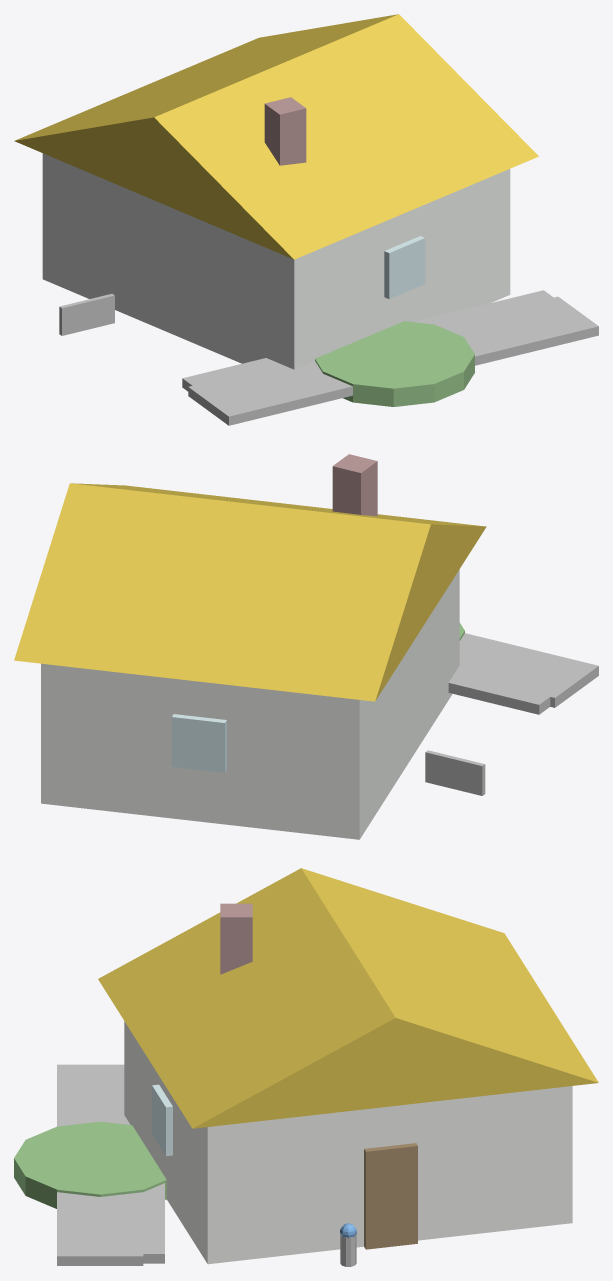
The model's file is house_nike.glb.
3 views of the same model, one above another, from view 1: azimuth 30°, elevation 25°; view 2: azimuth 150°, elevation 25°; view 3: azimuth 270°, elevation 25° (orthographic). The views are drawn at different scales.
Visible parts, largest first — view 1: nike_atap.001, nike_dinding.001, nike_teras_bawah.001, nike_taman.001, nike_teras.001, nike_cerobong.001, nike_jendela_1.001, nike_trofi.001; view 2: nike_atap.001, nike_dinding.001, nike_teras_bawah.001, nike_teras.001, nike_jendela_-1.001, nike_cerobong.001, nike_trofi.001; view 3: nike_atap.001, nike_dinding.001, nike_taman.001, nike_teras_bawah.001, nike_teras.001, nike_pintu.001, nike_cerobong.001, nike_jendela_1.001.
Part boxes in pixels (left/top/right/bottom): nike_atap.001: left=14, top=14, right=538, bottom=259; nike_dinding.001: left=42, top=153, right=510, bottom=369; nike_teras_bawah.001: left=188, top=296, right=598, bottom=425; nike_taman.001: left=315, top=321, right=474, bottom=406; nike_teras.001: left=182, top=290, right=573, bottom=400; nike_cerobong.001: left=264, top=97, right=306, bottom=165; nike_jendela_1.001: left=384, top=236, right=425, bottom=298; nike_trofi.001: left=59, top=293, right=114, bottom=335; nike_atap.001: left=14, top=483, right=486, bottom=701; nike_dinding.001: left=41, top=569, right=459, bottom=839; nike_teras_bawah.001: left=455, top=633, right=598, bottom=707; nike_teras.001: left=448, top=654, right=569, bottom=714; nike_jendela_-1.001: left=172, top=714, right=226, bottom=772; nike_cerobong.001: left=332, top=454, right=377, bottom=516; nike_trofi.001: left=425, top=750, right=485, bottom=795; nike_atap.001: left=98, top=868, right=598, bottom=1128; nike_dinding.001: left=124, top=1021, right=572, bottom=1264; nike_taman.001: left=14, top=1121, right=166, bottom=1208; nike_teras_bawah.001: left=57, top=1064, right=143, bottom=1265; nike_teras.001: left=100, top=1067, right=164, bottom=1263; nike_pintu.001: left=364, top=1143, right=417, bottom=1249; nike_cerobong.001: left=220, top=903, right=252, bottom=974; nike_jendela_1.001: left=152, top=1084, right=172, bottom=1156.
Size of the model in its own units: 9.26 by 5 by 10.84.
